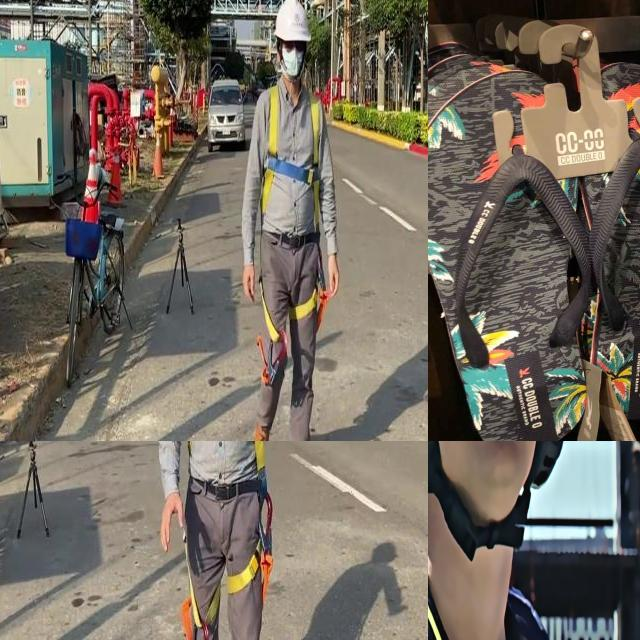Ear-protection: (530, 441, 568, 490)
Harness: (261, 85, 322, 232), (228, 441, 274, 600)
Sandals: (428, 23, 640, 441)
person: (428, 441, 601, 640)
